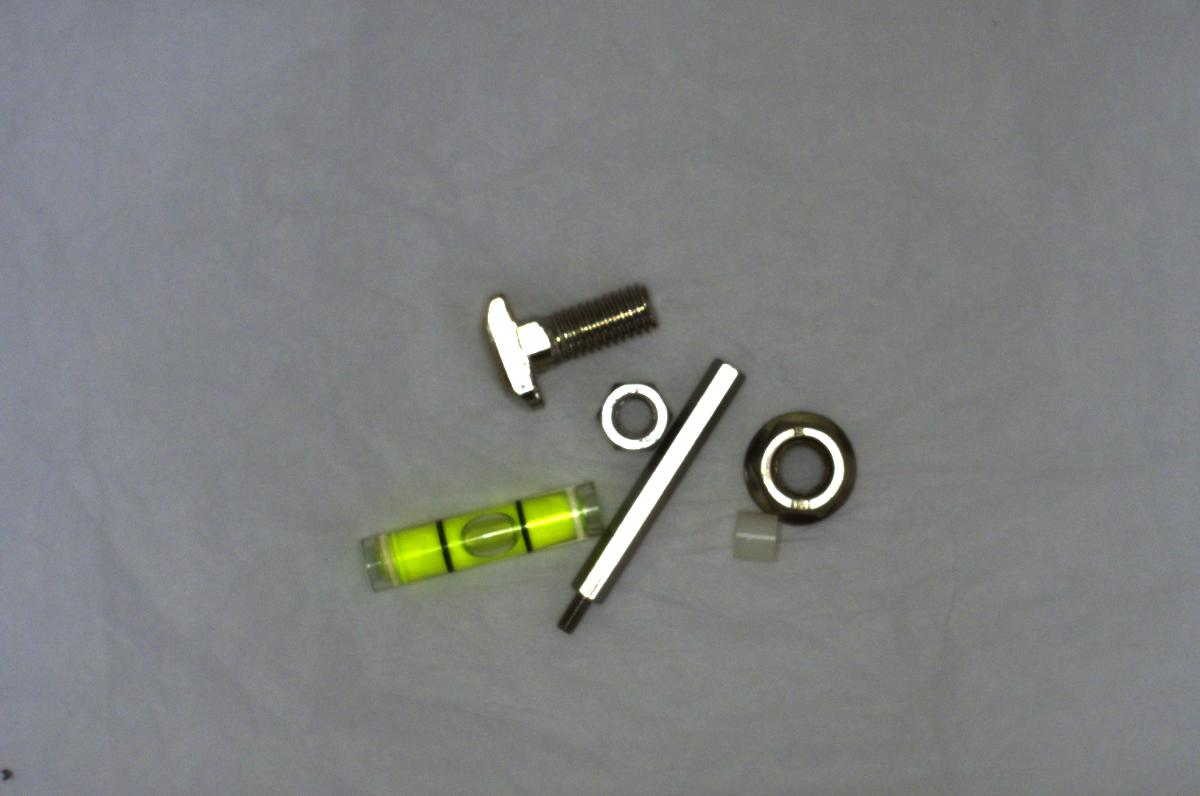Flange nut: (735, 403, 862, 528)
Hexagon nut: (583, 367, 674, 453)
Hexagonal steel column: (543, 351, 742, 635)
Horizontal bubble: (343, 465, 608, 617)
Plastic cushion pillar: (723, 505, 791, 565)
T-shaped screw: (469, 273, 657, 405)
